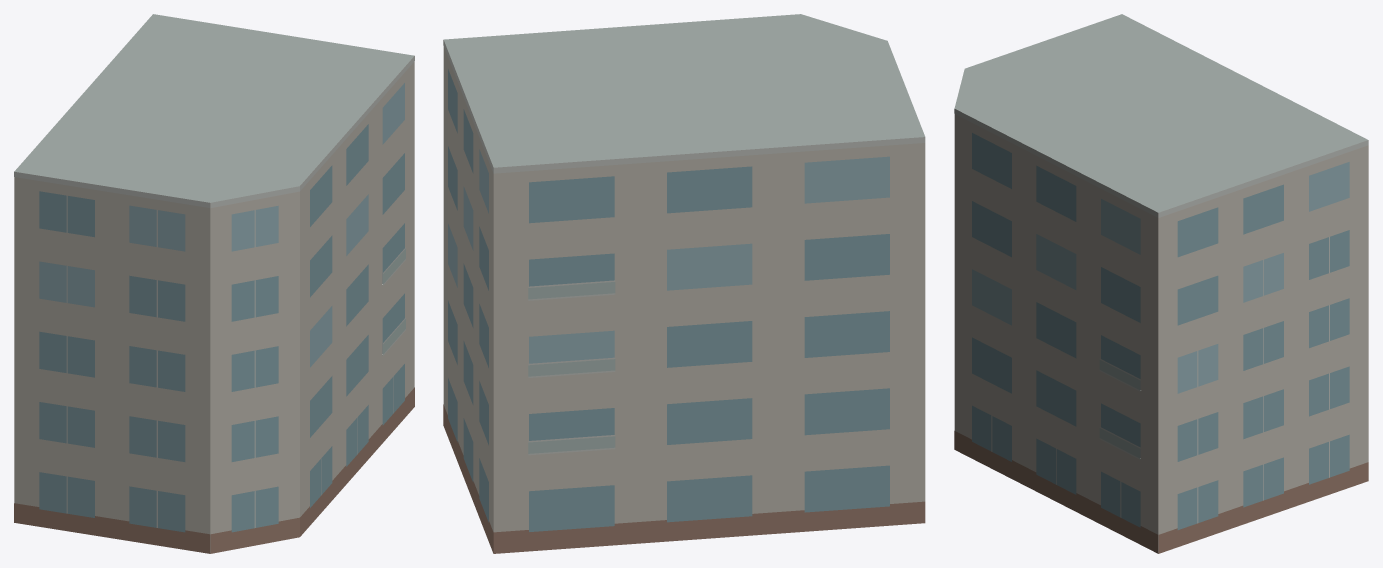
The model's file is survey-upis-32833255.glb.
3 renders of one model, left to right at view 1: azimuth 30°, elevation 25°; view 2: azimuth 150°, elevation 25°; view 3: azimuth 270°, elevation 25°, orthographic. The views are drawn at different scales.
Visible parts, largest first — view 1: survey-upis-32833255.tmp; view 2: survey-upis-32833255.tmp; view 3: survey-upis-32833255.tmp.
Boxes of the visible parts, x1=… form: survey-upis-32833255.tmp: x1=14, y1=14, x2=414, y2=553; survey-upis-32833255.tmp: x1=443, y1=14, x2=925, y2=553; survey-upis-32833255.tmp: x1=954, y1=14, x2=1368, y2=553.
Bounding box in the file's own units: 19.88 × 15.9 × 17.5.
